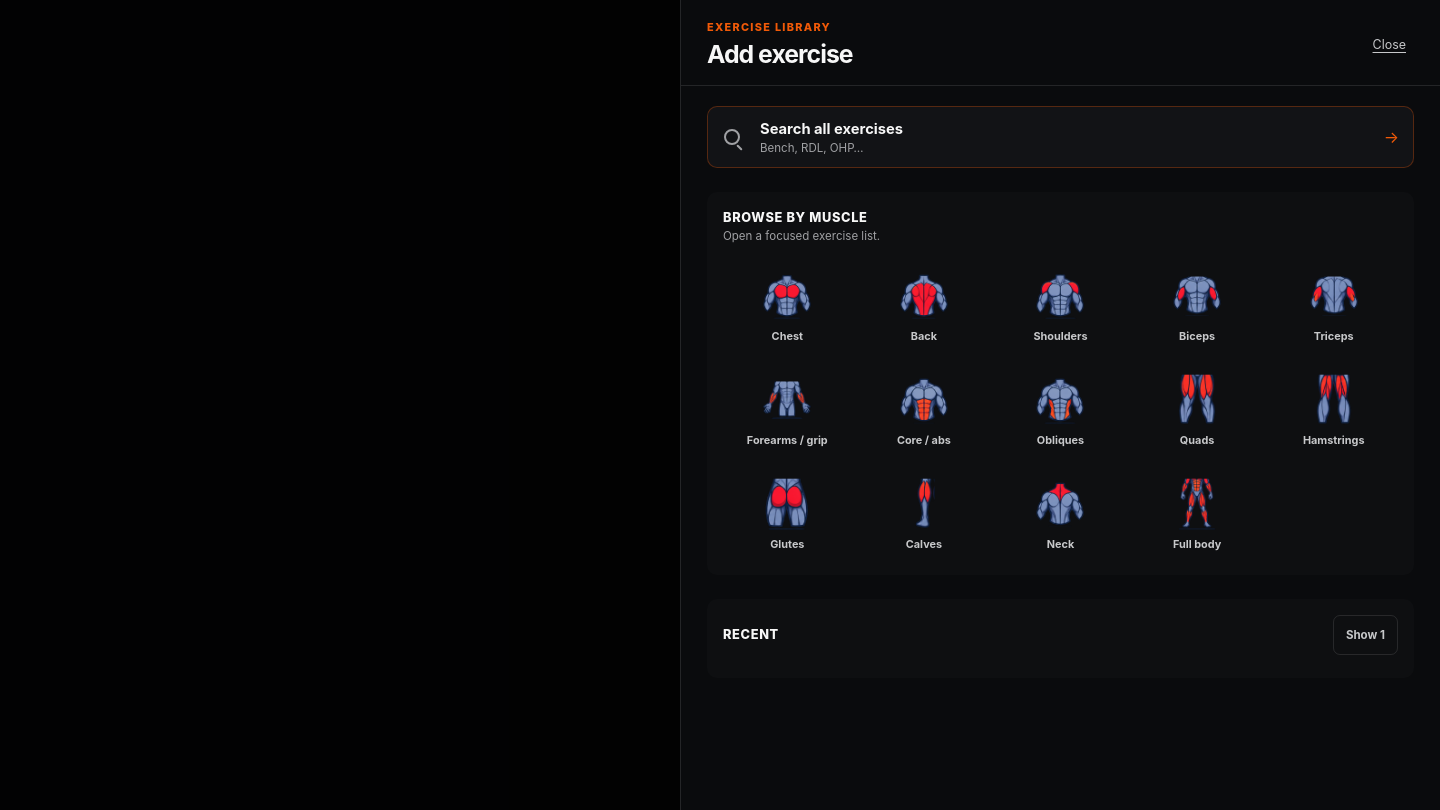
ExercisePicker › uses the back arrow to return from a muscle-group screen to the top-level selector
The image size is (1440, 810).
Click the button with aria-label "Open Quads exercises".
click(1197, 409)  # box [1133,363,1261,455]
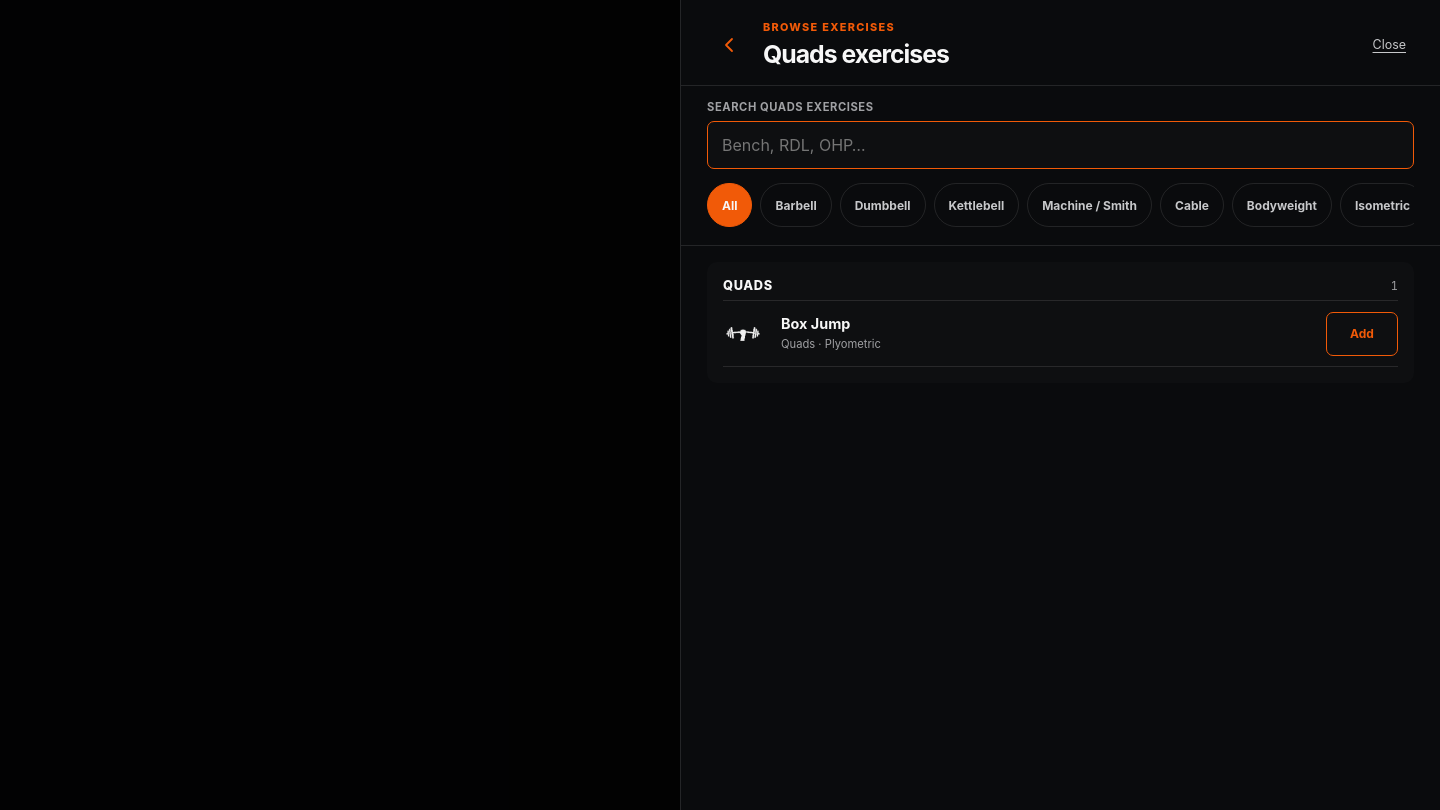
Click the button named "Back to exercise library".
click(729, 44)  # box [707,22,751,66]
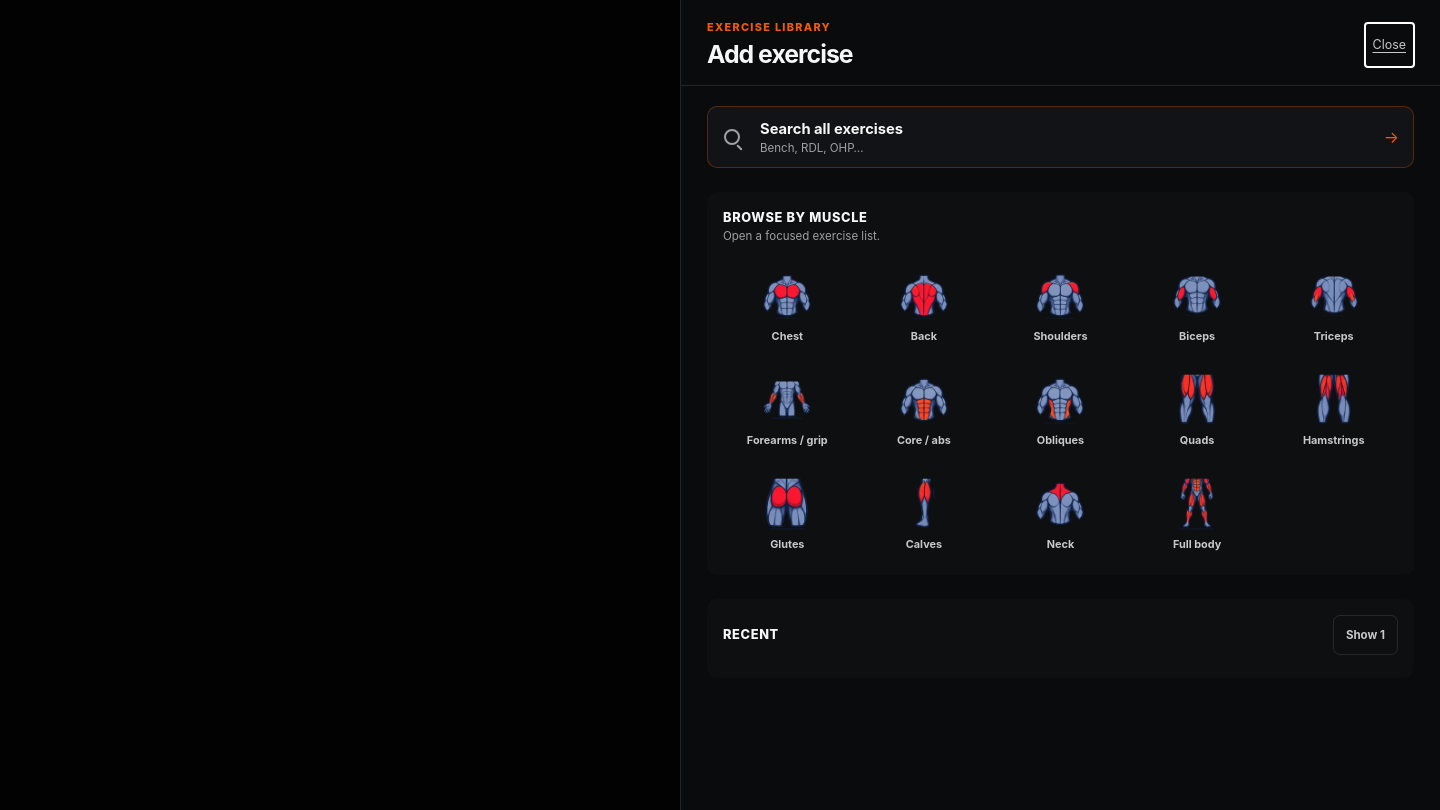
Check: the heading "Add exercise" is shown, box [707,39,853,69]
Check: the button with aria-label "Open Chest exercises" is shown, box [723,259,852,351]
